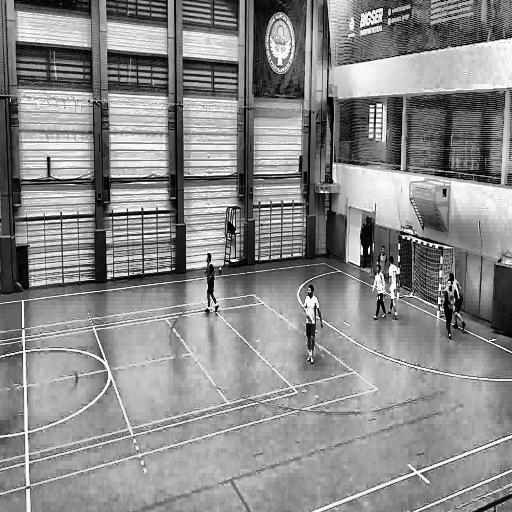ball: (217, 264, 224, 276)
player: (303, 280, 324, 366), (203, 250, 220, 316), (450, 273, 468, 335), (443, 280, 458, 341), (373, 264, 388, 324), (388, 255, 400, 323), (377, 244, 388, 279)
